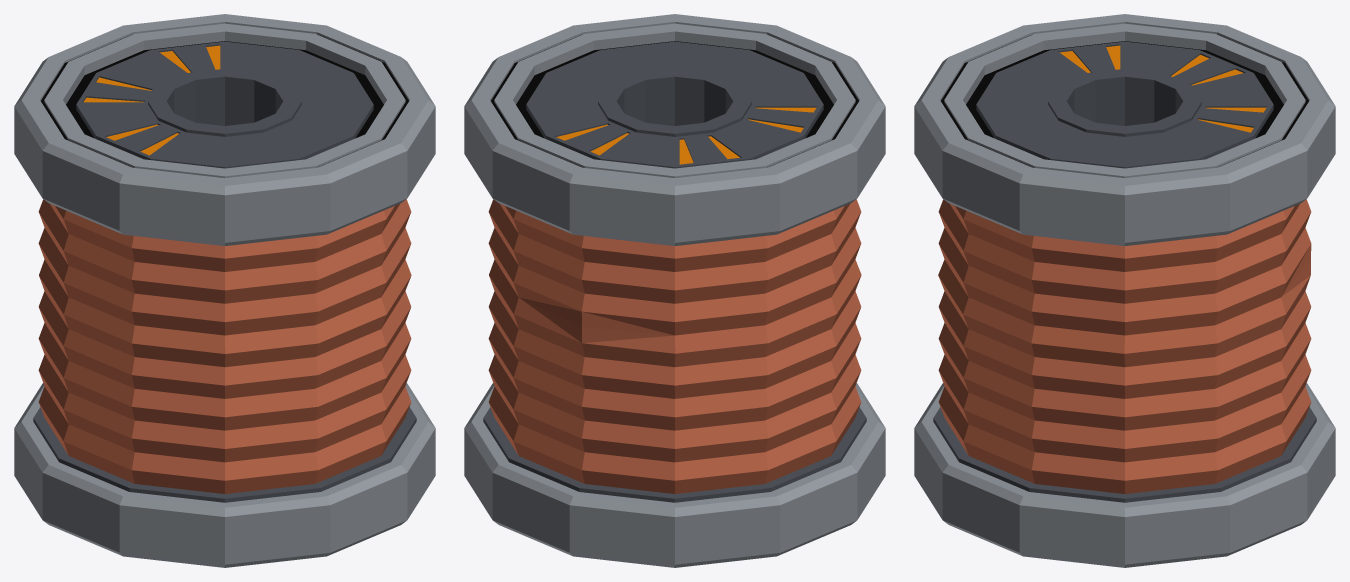
Rendered from SM_Copper_Coil.fbx.
3 views of the same model, side by side, from view 1: azimuth 30°, elevation 25°; view 2: azimuth 150°, elevation 25°; view 3: azimuth 270°, elevation 25° (orthographic).
Visible parts, largest first — view 1: SM_Copper_Coil; view 2: SM_Copper_Coil; view 3: SM_Copper_Coil.
Boxes of the visible parts, box(x1,y1,x2,y2) form: SM_Copper_Coil: box(14, 14, 435, 567); SM_Copper_Coil: box(464, 14, 885, 567); SM_Copper_Coil: box(914, 14, 1335, 567).
Size of the model in its own units: 29.84 by 29.84 by 29.84.
